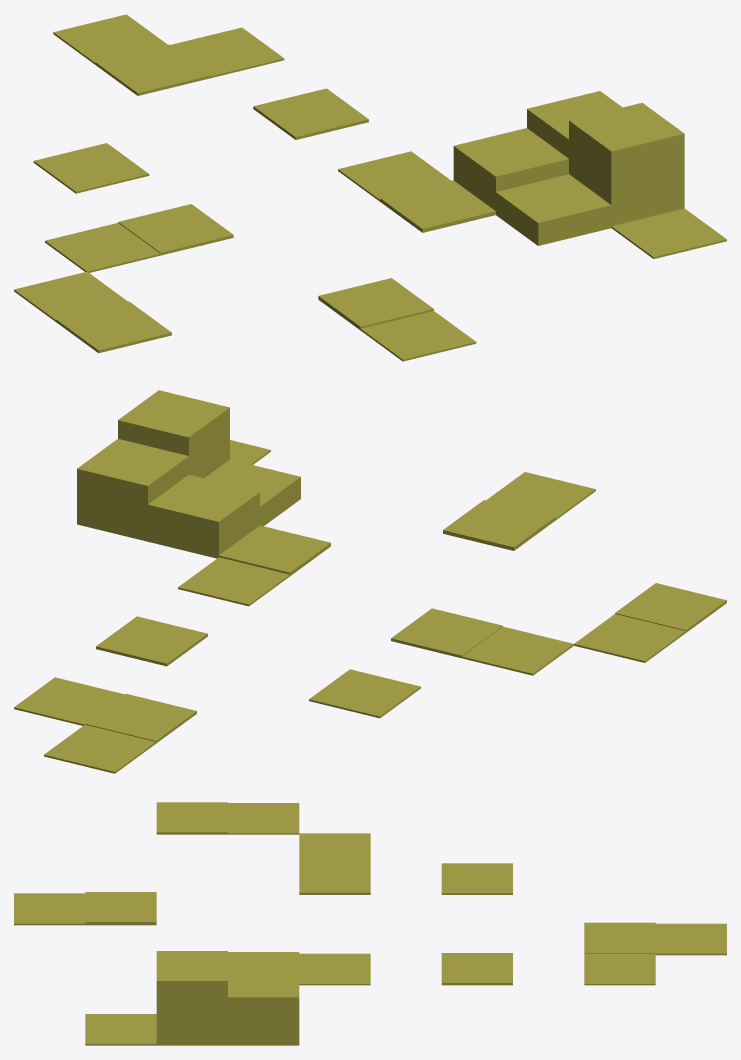
File: SM_Terrain_Bare_03.fbx
3 views of the same model, one above another, from view 1: azimuth 30°, elevation 25°; view 2: azimuth 150°, elevation 25°; view 3: azimuth 270°, elevation 25° (orthographic). The views are drawn at different scales.
Parts seen in each view (by area): view 1: SM_Tile_Bare_03; view 2: SM_Tile_Bare_03; view 3: SM_Tile_Bare_03.
Boxes of the visible parts, left/top/right/bottom form: SM_Tile_Bare_03: left=14, top=14, right=726, bottom=361; SM_Tile_Bare_03: left=14, top=390, right=726, bottom=773; SM_Tile_Bare_03: left=14, top=802, right=726, bottom=1045.
Bounding box in the file's own units: 3200 × 400 × 4000.
